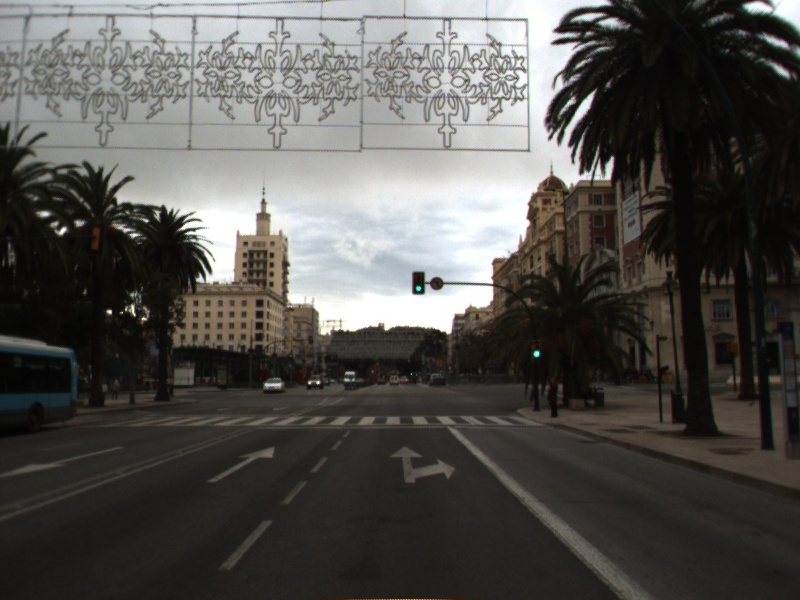STRAIGHT: (205, 444, 277, 485)
STRAIGHT_RIGHT: (387, 444, 458, 486)
